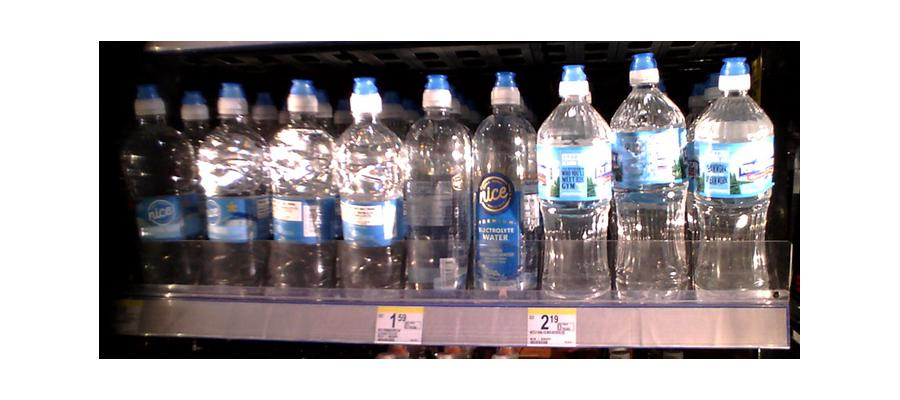bottle: (689, 64, 778, 303), (614, 56, 691, 307), (535, 69, 616, 306), (115, 90, 200, 308), (333, 90, 407, 296), (406, 78, 474, 297), (264, 85, 335, 292), (473, 74, 533, 297), (200, 102, 263, 286)
